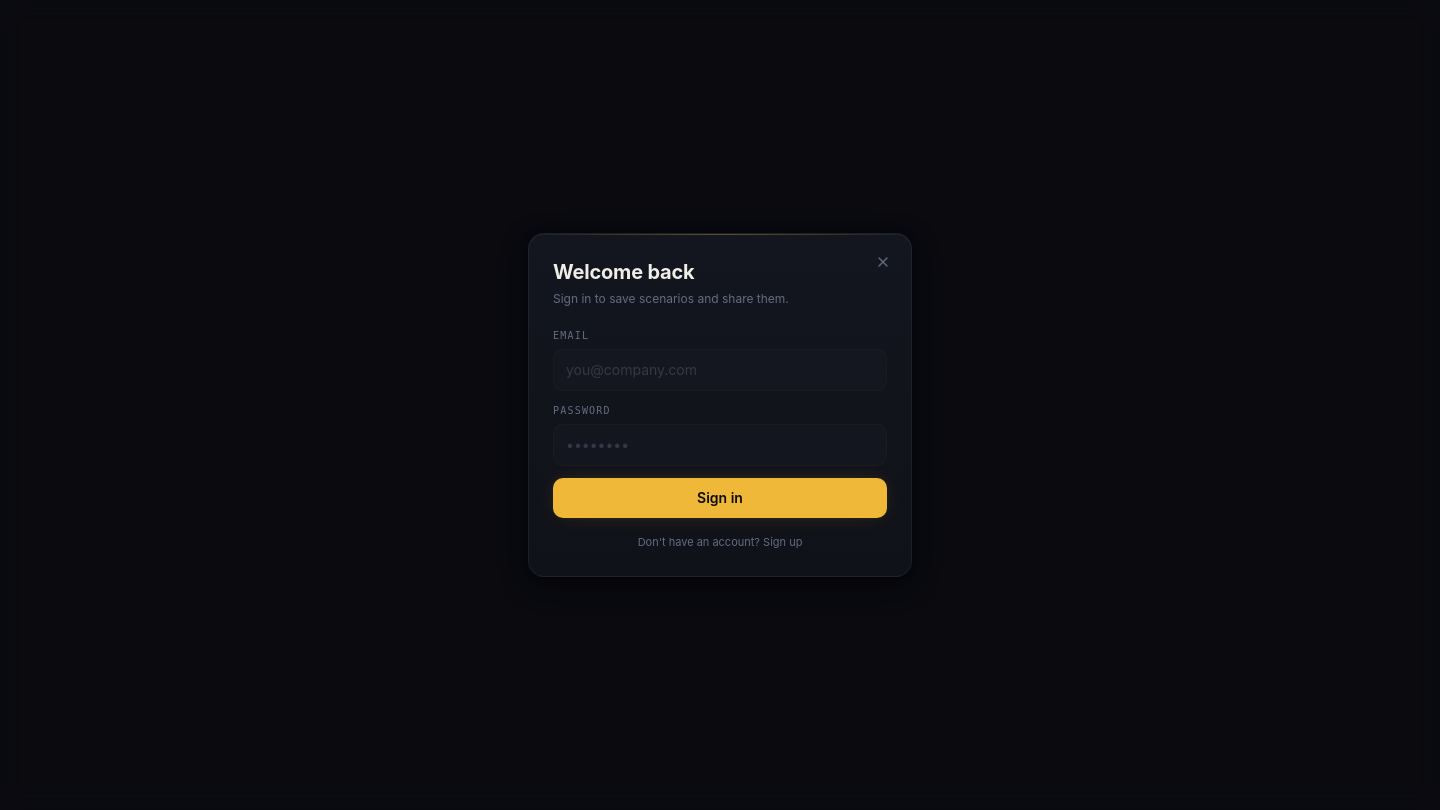
Test: AuthDialog › shows a success message after sign-up
The image size is (1440, 810).
Step 1. Click the button "Don't have an account? Sign up" → x=720, y=542, box [553,534,887,550]
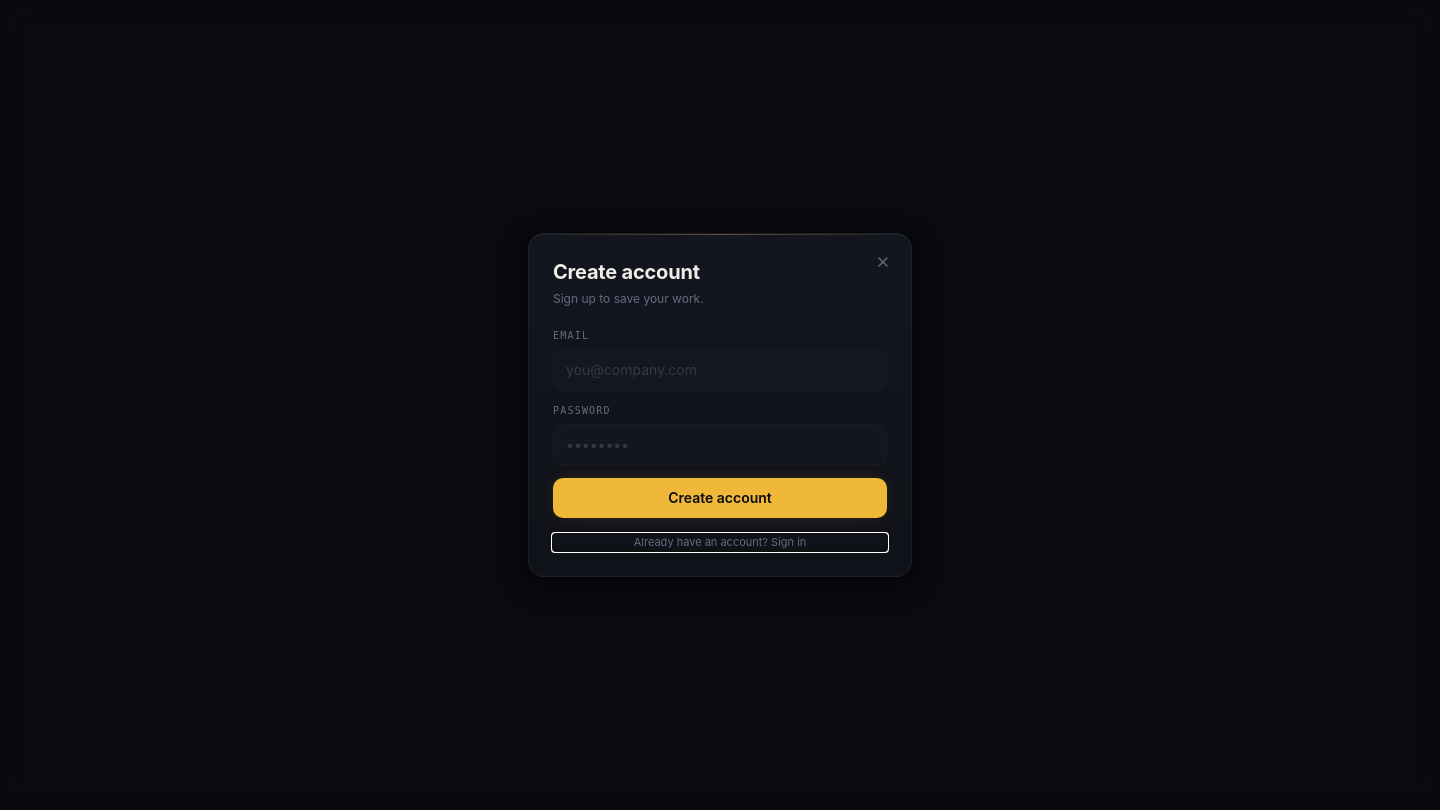
Step 2. Type "new@example.com" into the field labelled "Email" → x=720, y=370, box [553,349,887,391]
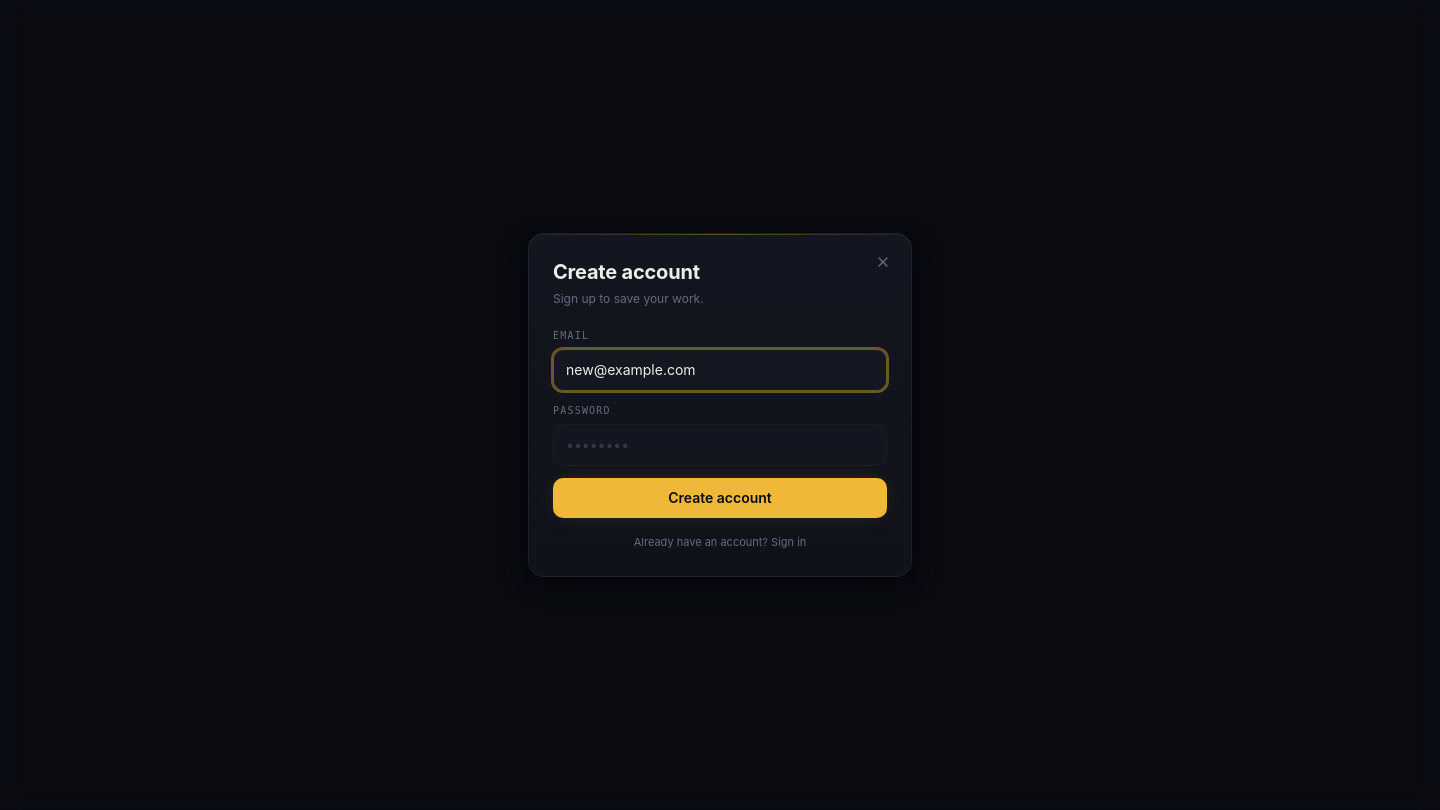
Step 3. Type "secret123" into the password field labelled "Password" → x=720, y=445, box [553,424,887,466]
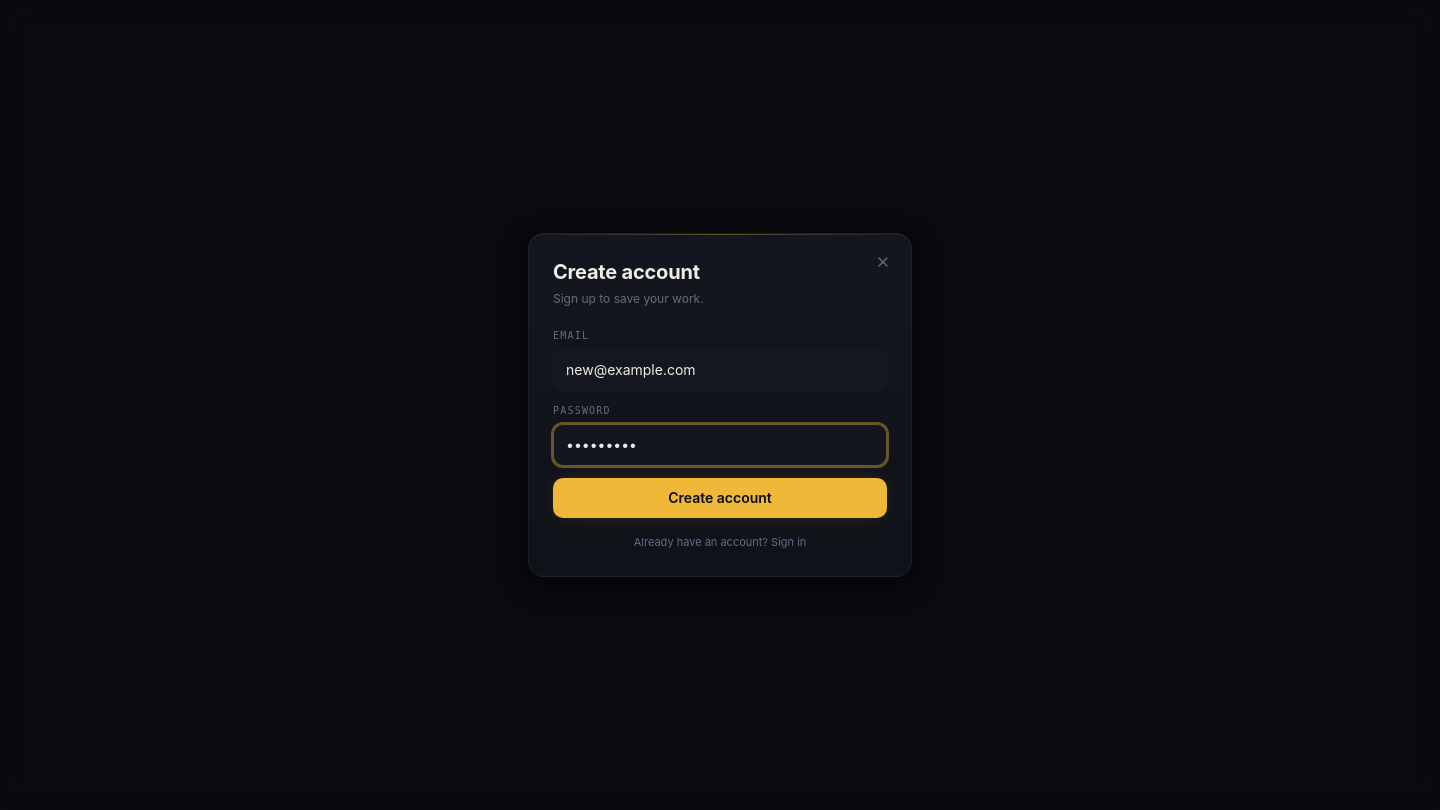
Step 4. Click the button "Create account" → x=720, y=498, box [553,478,887,518]
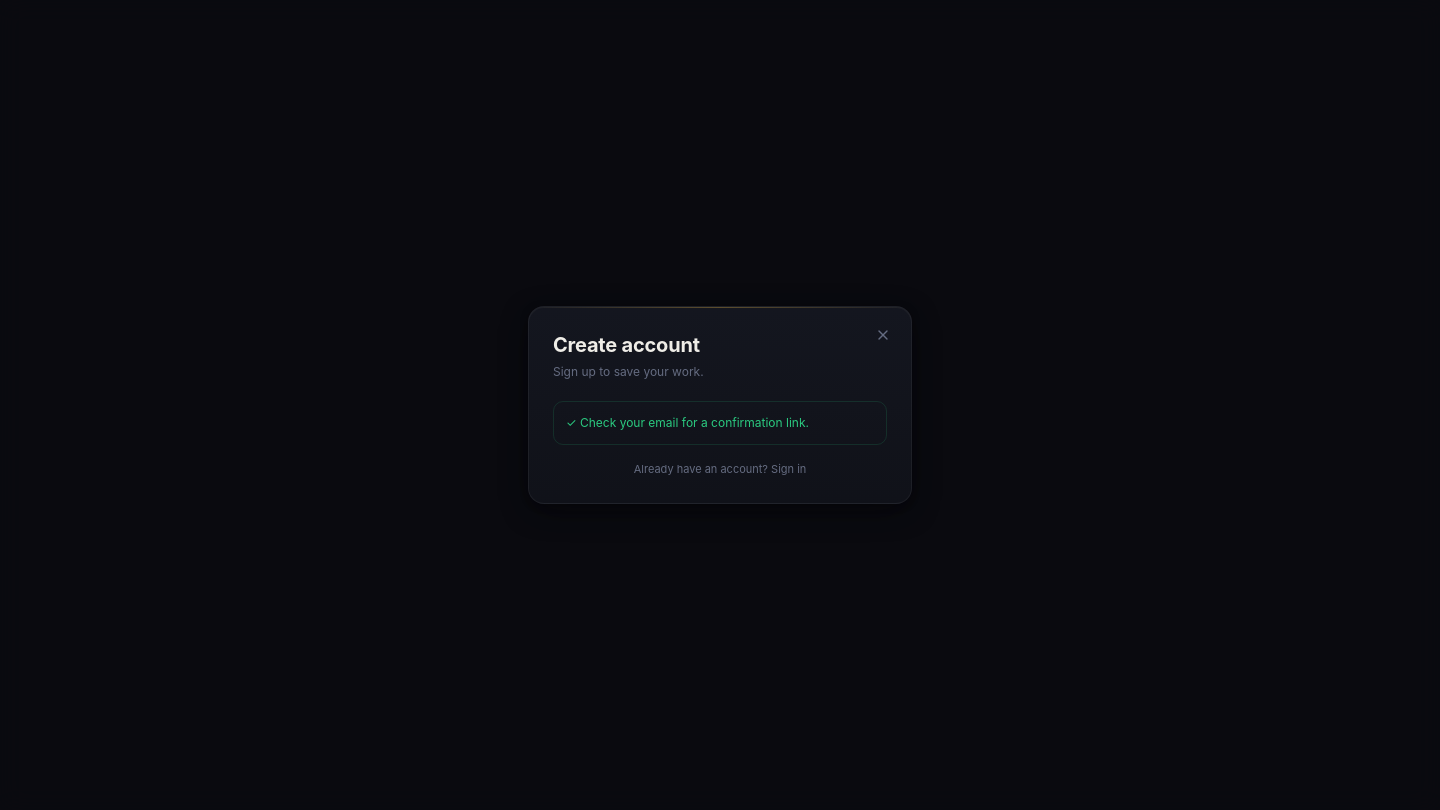
Expected: the text "✓ Check your email for a confirmation link." is shown, [553,401,887,445]
